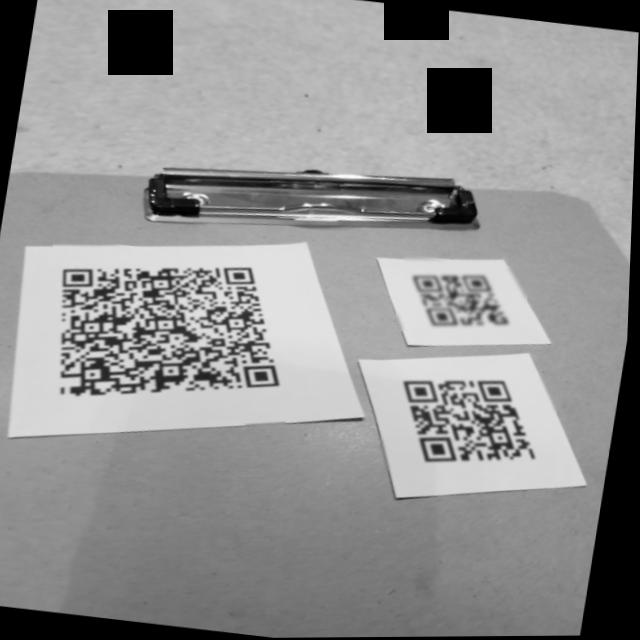QR_CODE: (29, 236, 313, 431), (379, 359, 564, 490), (396, 254, 535, 346)
